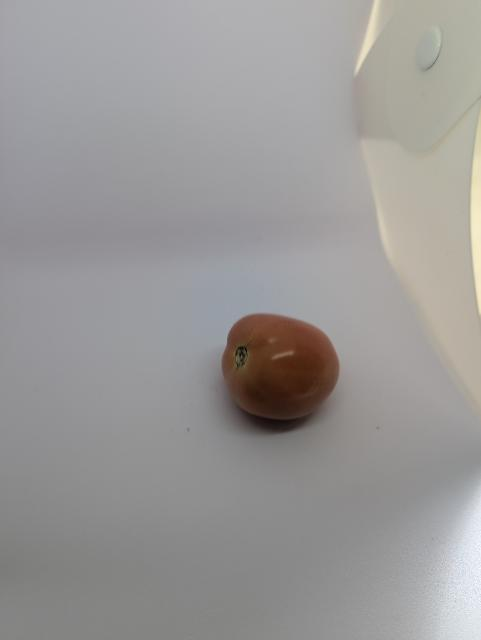red: (207, 304, 352, 436)
